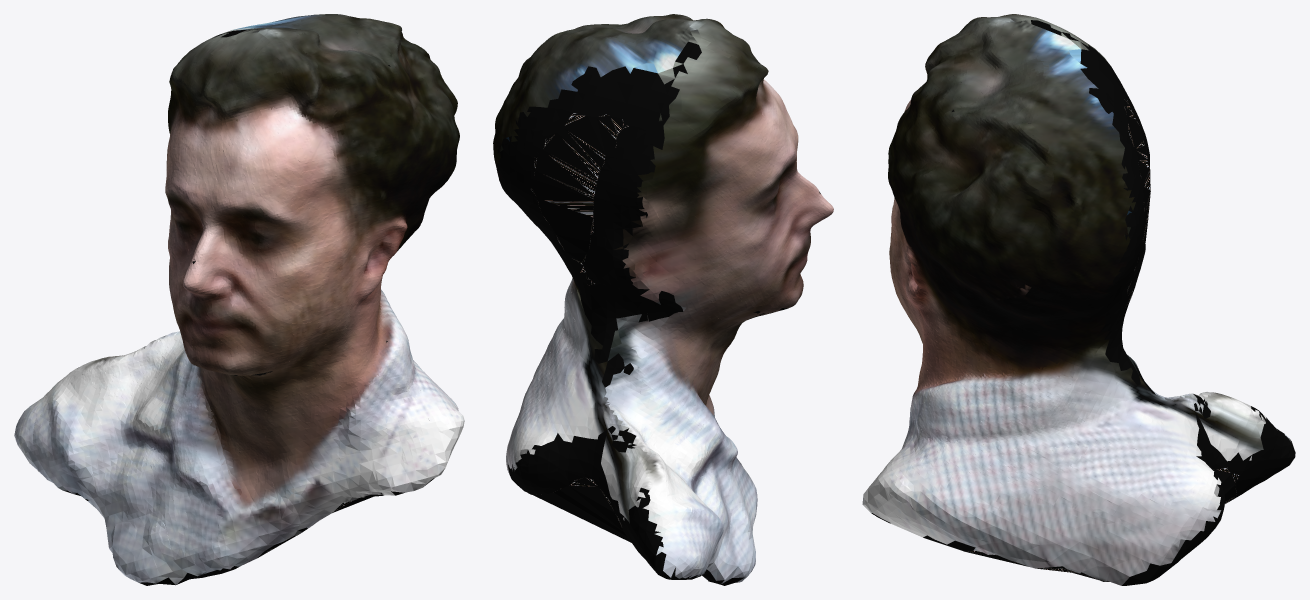
Rendered from nuno.glb.
3 renders of one model, left to right at view 1: azimuth 30°, elevation 25°; view 2: azimuth 150°, elevation 25°; view 3: azimuth 270°, elevation 25°, orthographic. The views are drawn at different scales.
Bounding box in the file's own units: 0.263 × 0.4513 × 0.3063.
1 material, 1 textured.
